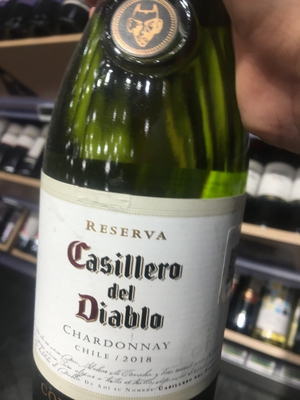casillero del diablo chardonnay: (35, 25, 255, 400)
